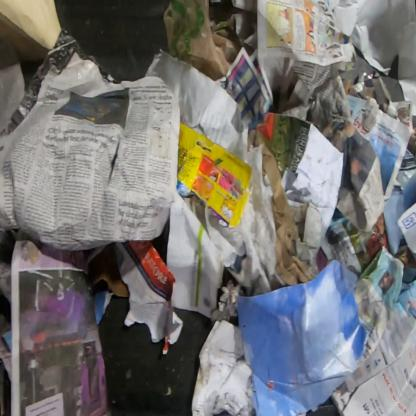cardboard: (262, 145, 324, 292)
soft_plastic: (176, 121, 254, 229), (162, 0, 240, 82)
